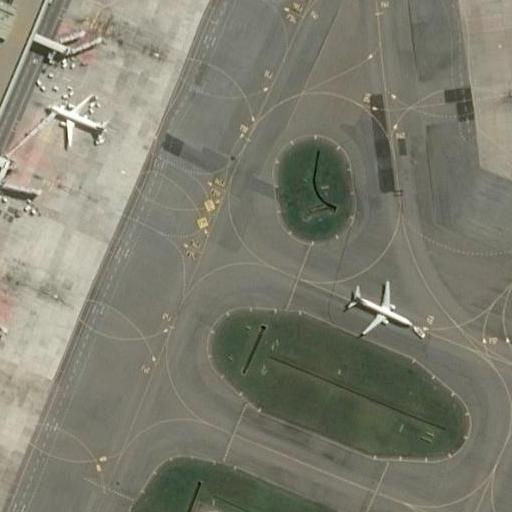Aircraft: (346, 275, 417, 342), (44, 89, 107, 147)
